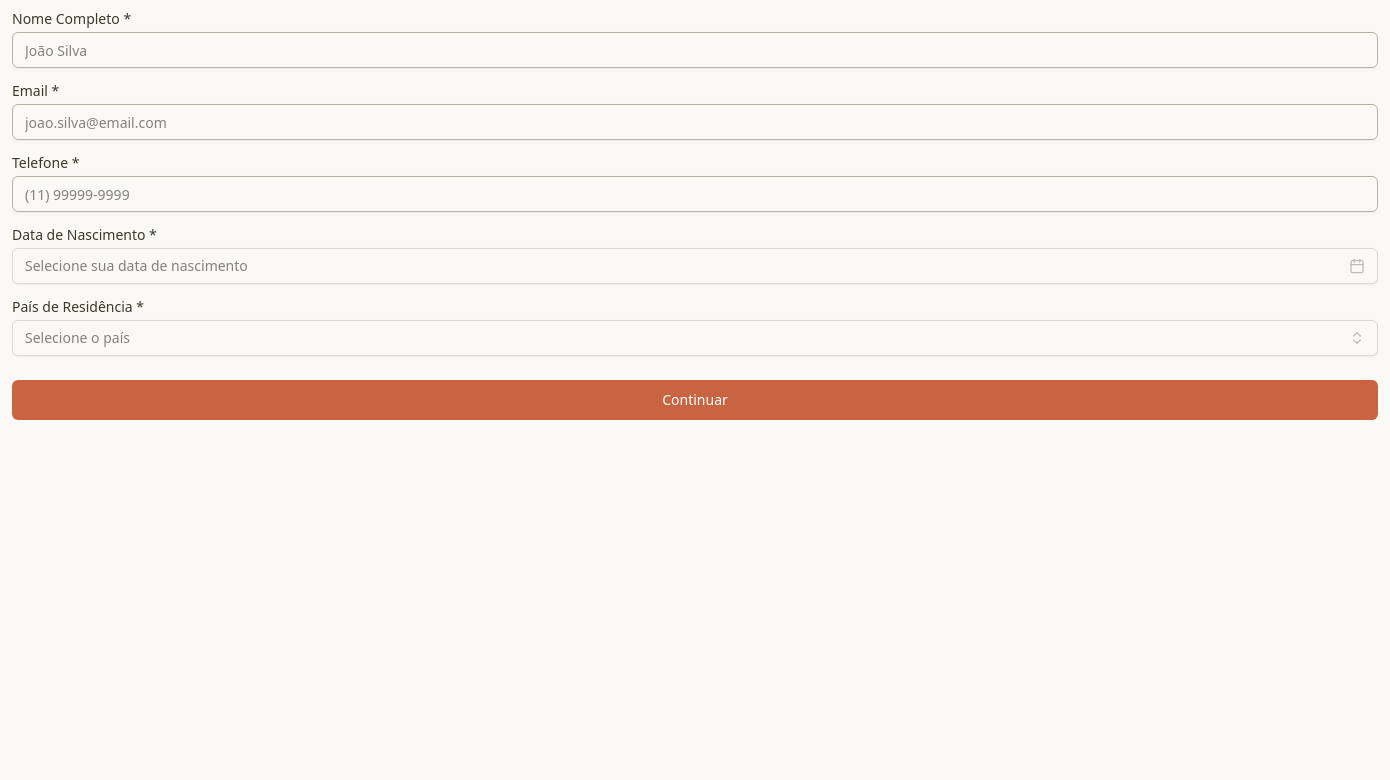
it: PersonalInfoStep › should display validation errors for empty fields
Click the button "Continuar": [695, 400] box [12, 380, 1378, 420]
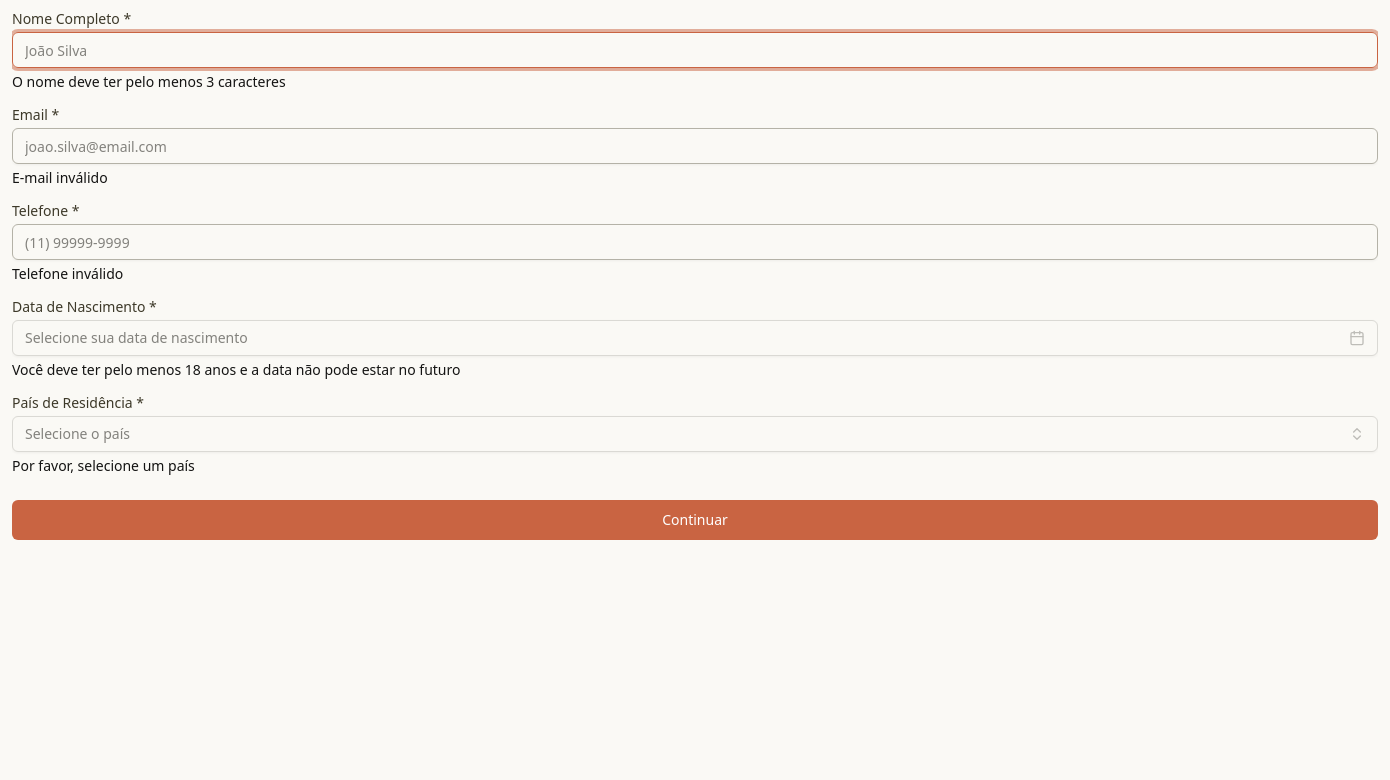
Result: the text "O nome deve ter pelo menos 3 caracteres" is shown at [12, 72, 286, 91]
Result: the text "E-mail inválido" is shown at [12, 168, 108, 187]
